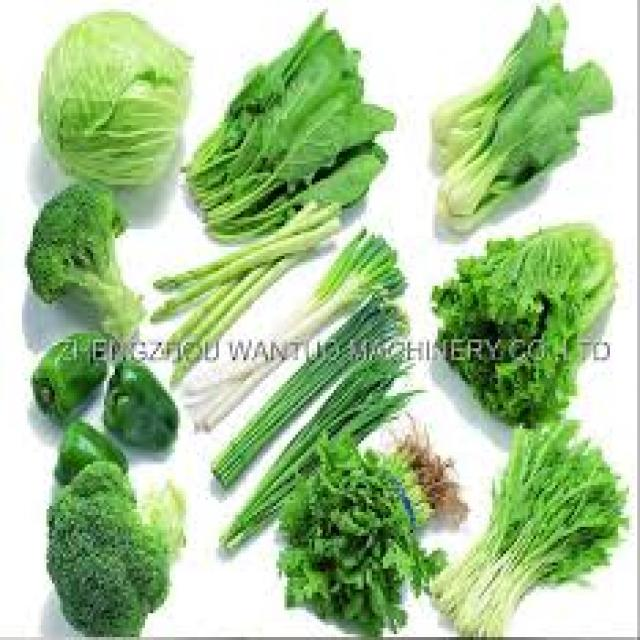organic waste: (178, 6, 394, 241), (421, 414, 629, 637), (183, 229, 405, 426), (216, 348, 421, 557), (279, 417, 462, 637), (208, 292, 405, 488), (427, 223, 612, 426), (148, 199, 339, 384), (435, 60, 610, 229), (35, 9, 188, 187), (44, 458, 180, 637), (429, 0, 564, 158), (24, 178, 140, 330), (30, 327, 107, 414), (101, 360, 175, 447), (52, 420, 126, 488)
